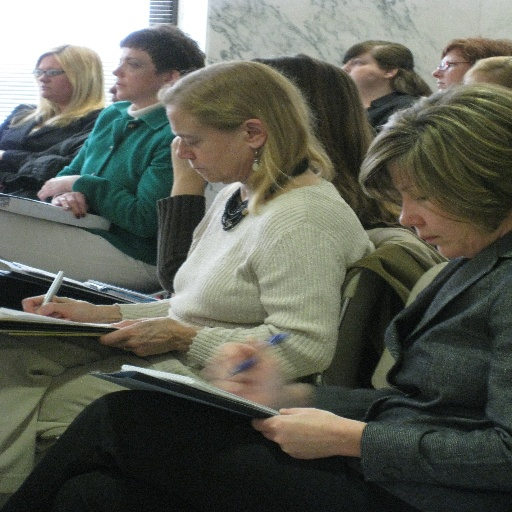hand: (87, 309, 206, 361), (249, 405, 350, 459), (211, 340, 282, 404), (20, 292, 96, 323), (169, 136, 208, 185), (37, 174, 82, 202), (50, 191, 88, 219), (0, 149, 7, 161)
